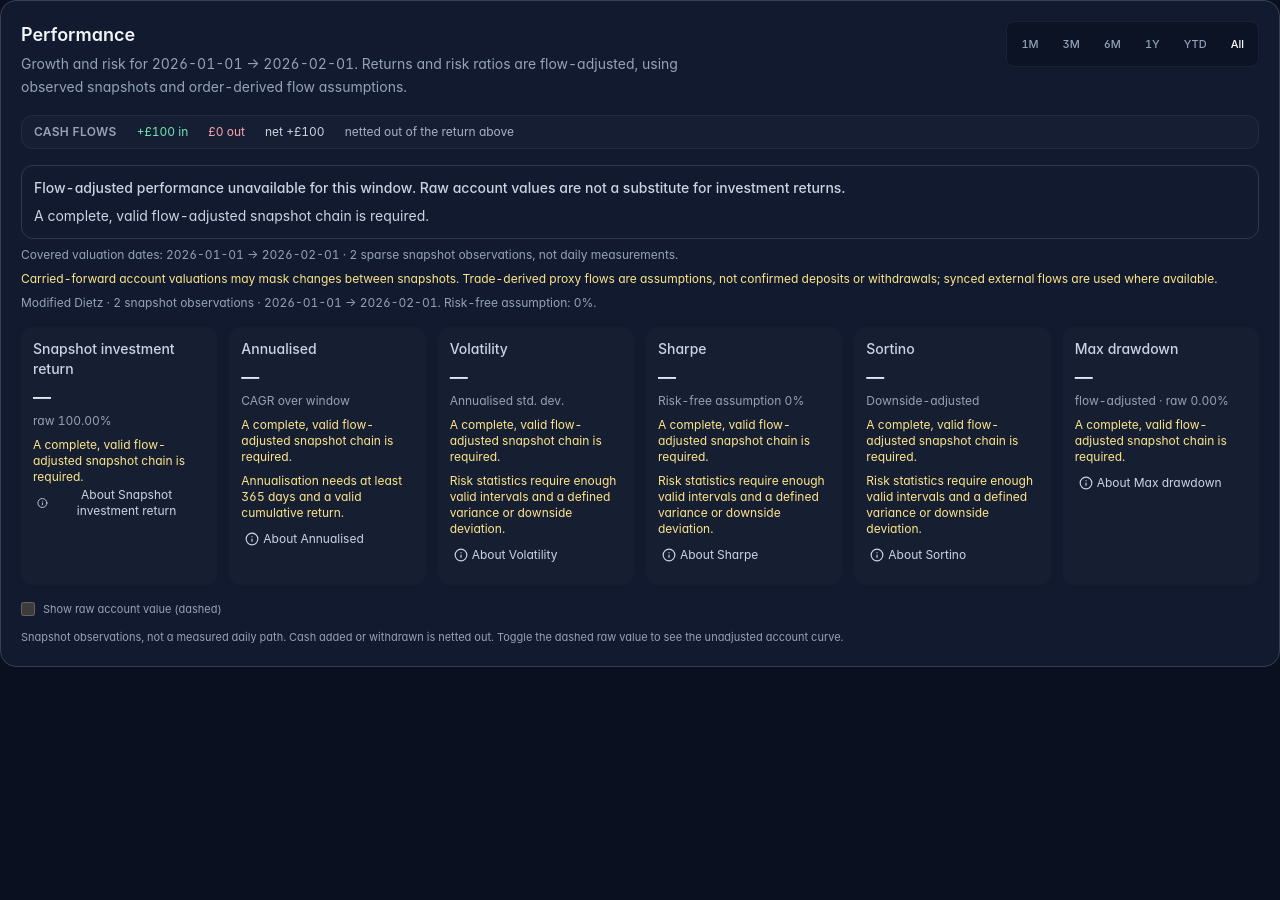
PerformancePanel › never substitutes raw metrics when flow-adjusted metrics are unavailable
Expected: the heading "Performance" is shown, x1=21 y1=24 x2=135 y2=45
Expected: the 5th text with class "tabular" reads "—", x1=1075 y1=366 x2=1093 y2=386
Step 1. Click the button "About Snapshot investment return" → click(119, 502), box x1=33 y1=484 x2=205 y2=520
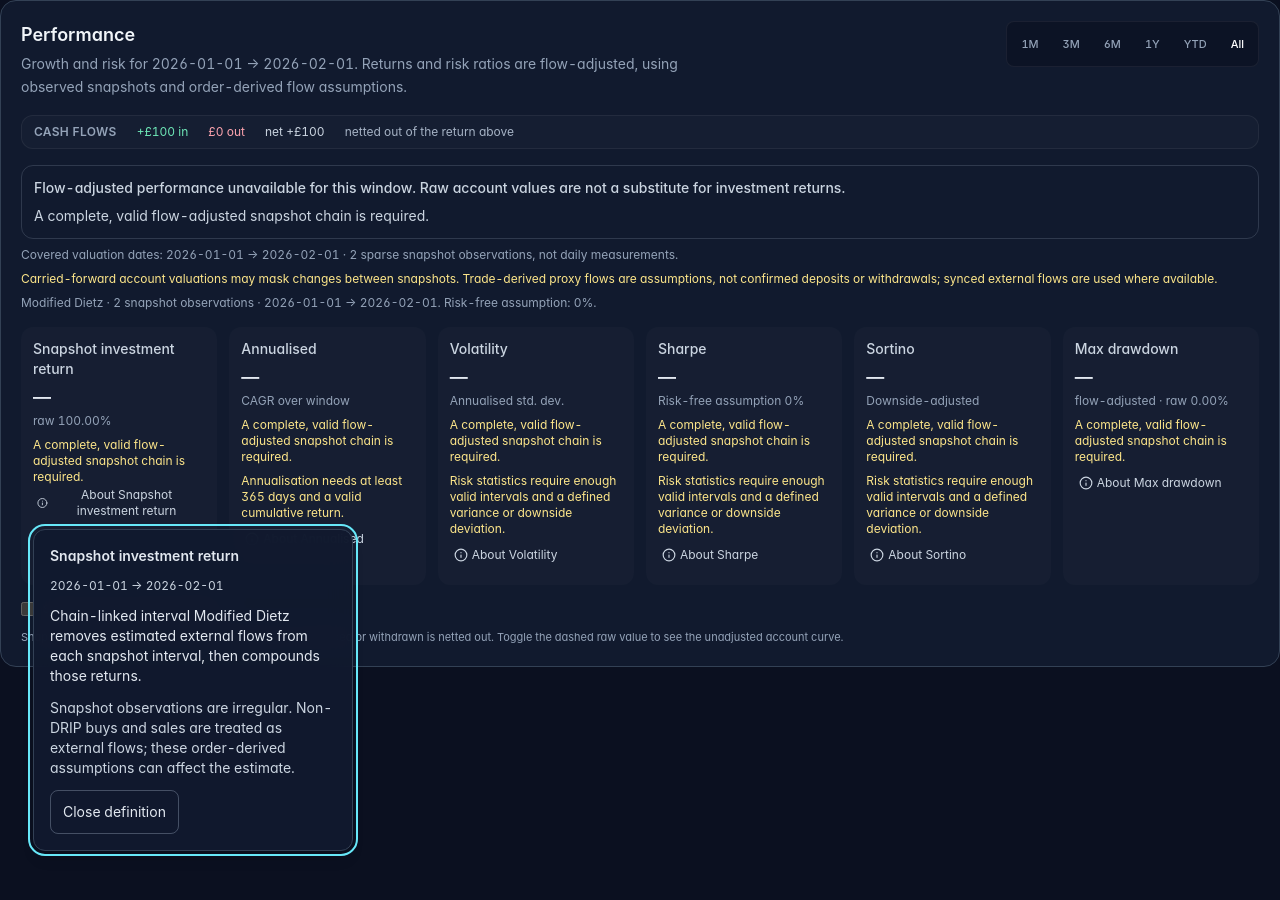
Expected: the text "raw 100.00%" is shown, x1=33 y1=412 x2=112 y2=428
Expected: the dialog shows "Chain-linked interval Modified Dietz", x1=50 y1=606 x2=320 y2=684
